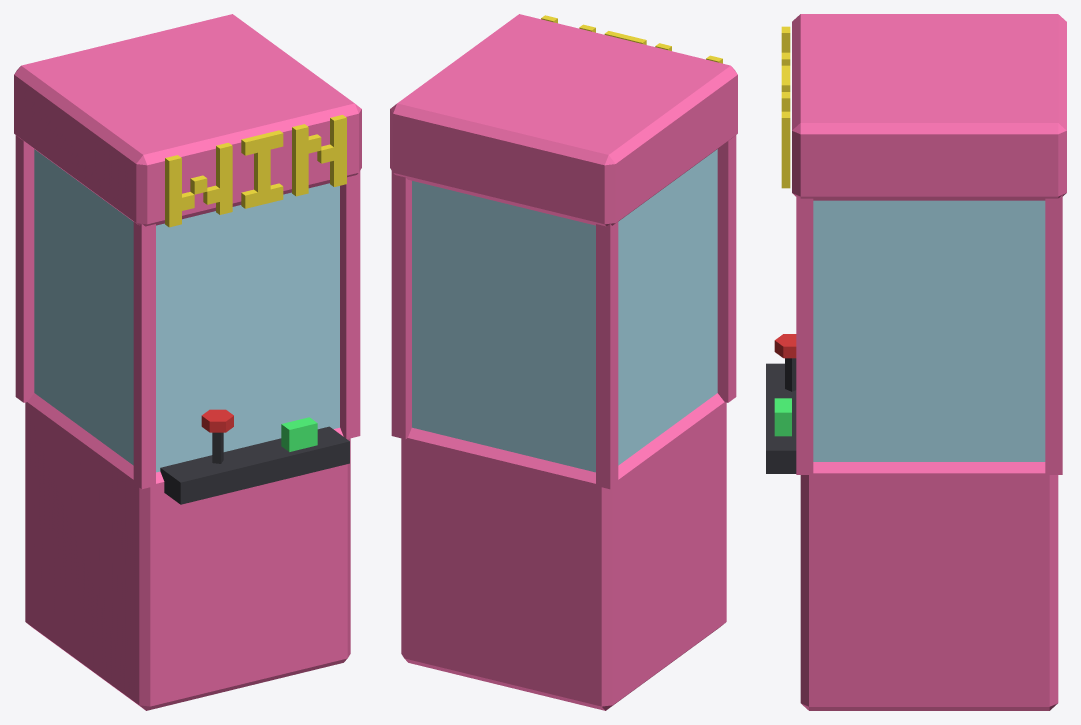
File: ClawMachine.fbx
3 views of the same model, side by side, from view 1: azimuth 30°, elevation 25°; view 2: azimuth 150°, elevation 25°; view 3: azimuth 270°, elevation 25° (orthographic). The views are drawn at different scales.
Parts seen in each view (by area): view 1: ClawMachine; view 2: ClawMachine; view 3: ClawMachine.
Boxes of the visible parts, bbox=[...] form: ClawMachine: bbox=[14, 14, 361, 710]; ClawMachine: bbox=[390, 14, 737, 710]; ClawMachine: bbox=[766, 14, 1066, 710].
Size of the model in its own units: 3.2 by 7.6 by 3.5.
Materials: 1 (1 with a texture image).
